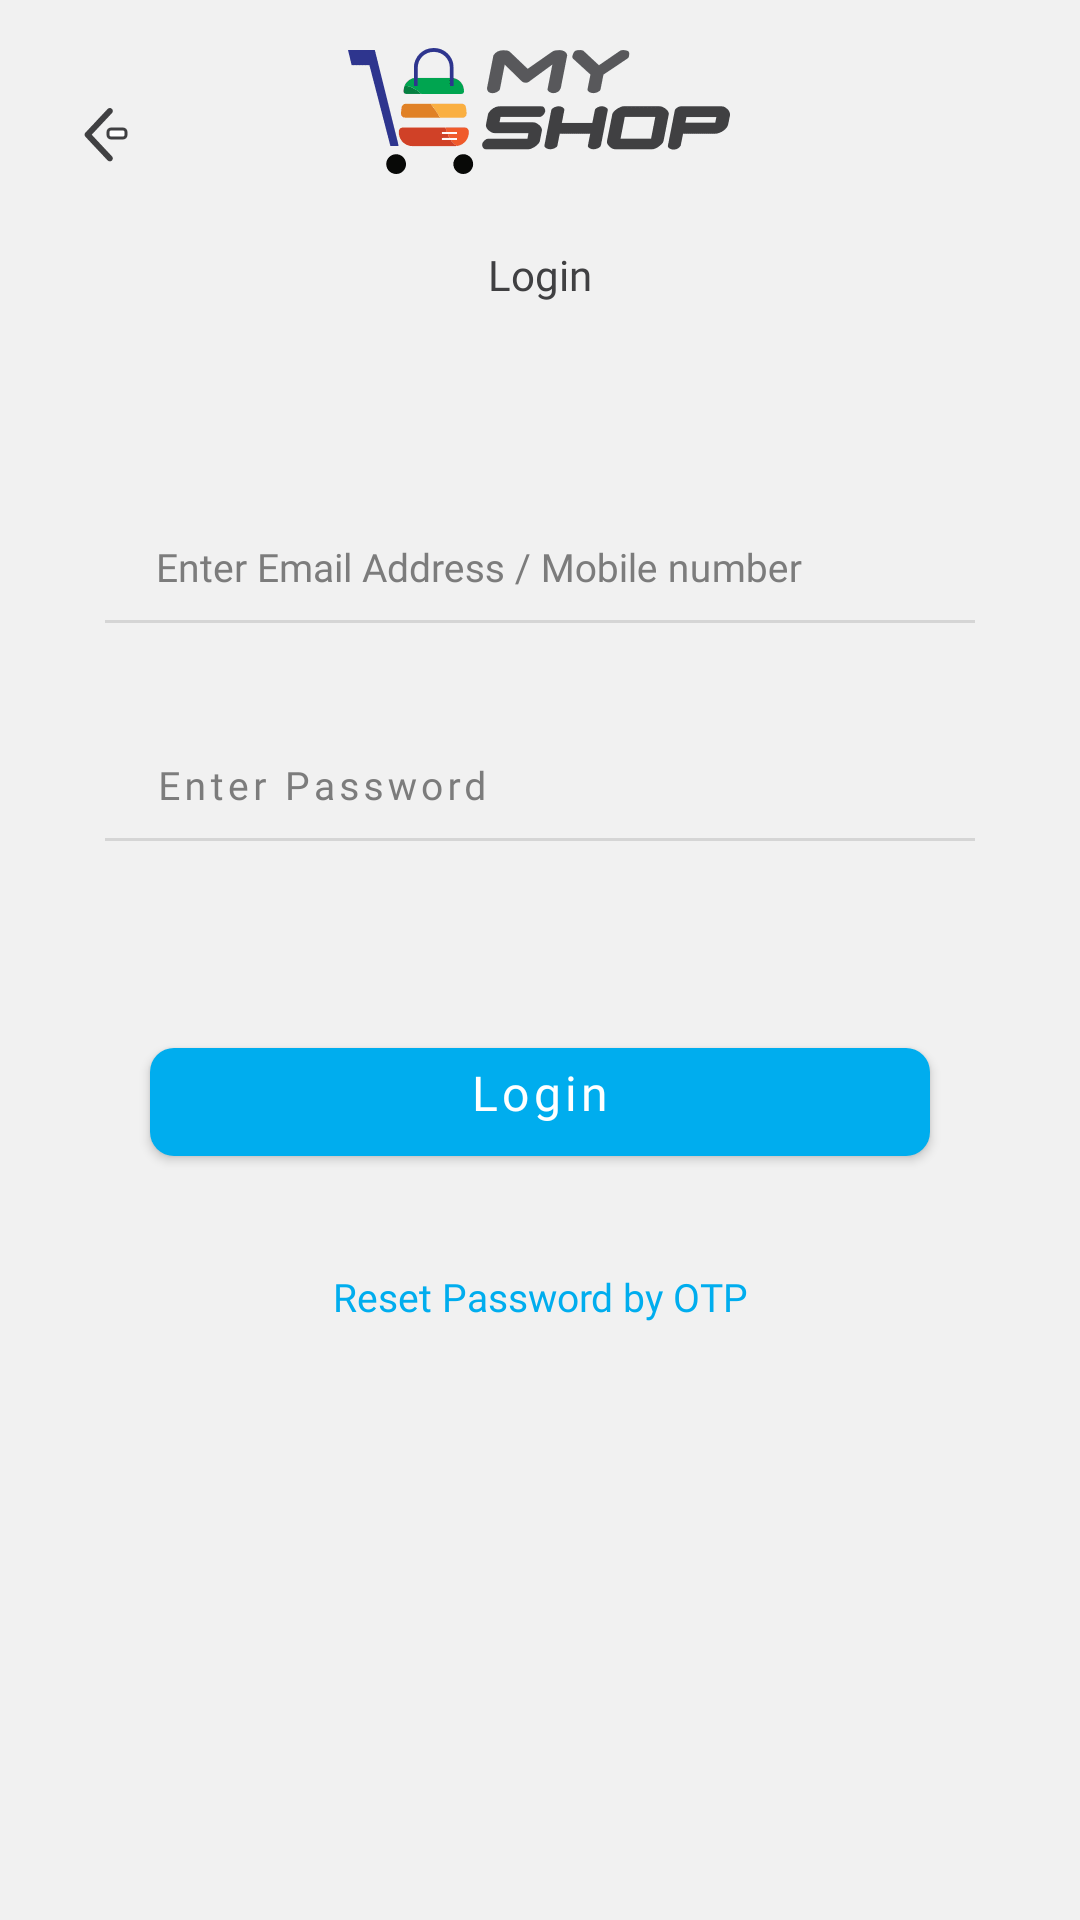

Locate icon controls on the screen. Image size 1080 x 1920, boxes as bbox=[x1, y1, x2, y2].
back arrow: bbox=[84, 108, 128, 162]
